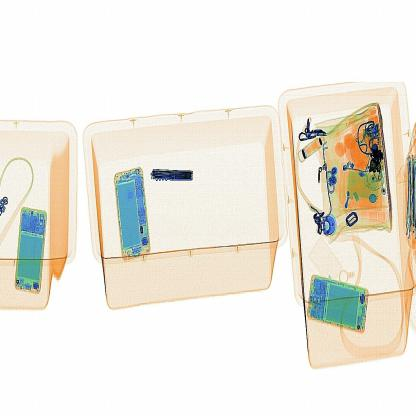scissors: (151, 168, 196, 187)
